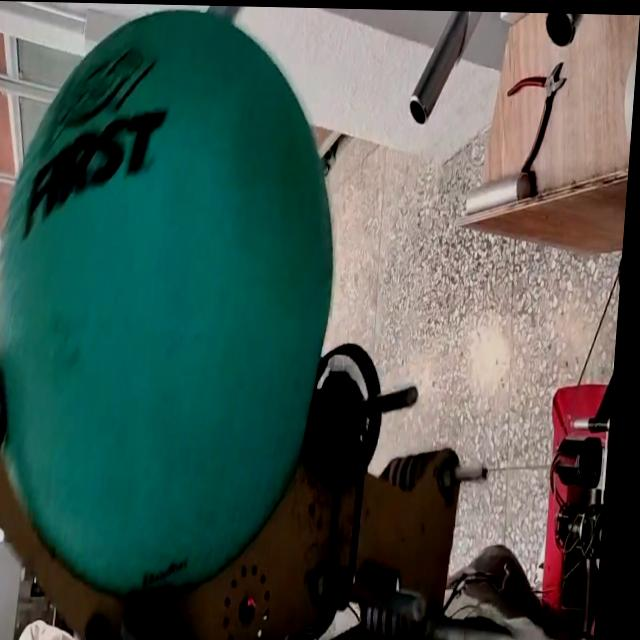ALGAE: (0, 3, 355, 603)
